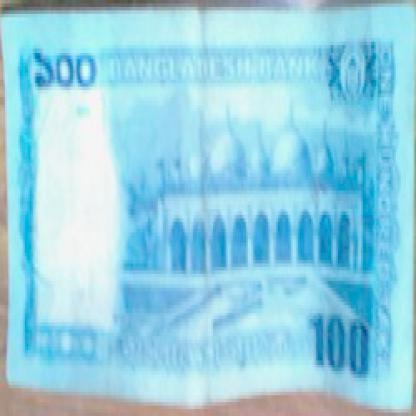one hundred taka: (310, 301, 376, 384), (26, 42, 106, 108)
